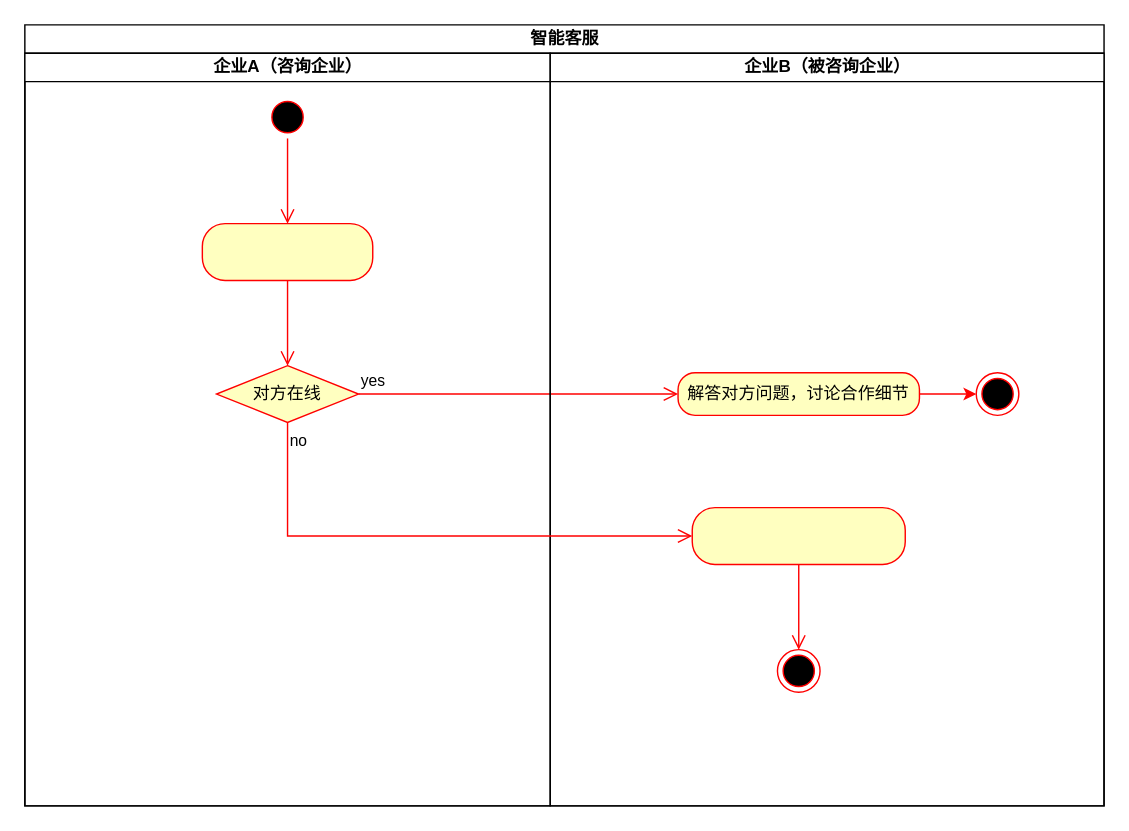
This 1129x831 diagram has some shape labels left out. Each missing label, with the centre of its shape:
智能助手读取B企业的基本信息来回答A的问题: (798,535)
要了解B企业的情况，发送询问消息: (287,251)
